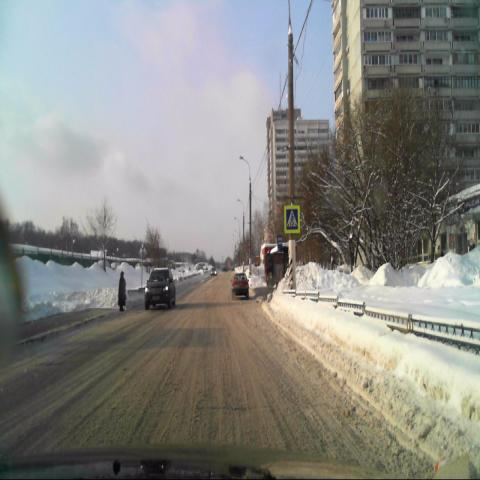5_19_1: (284, 206, 300, 234)
